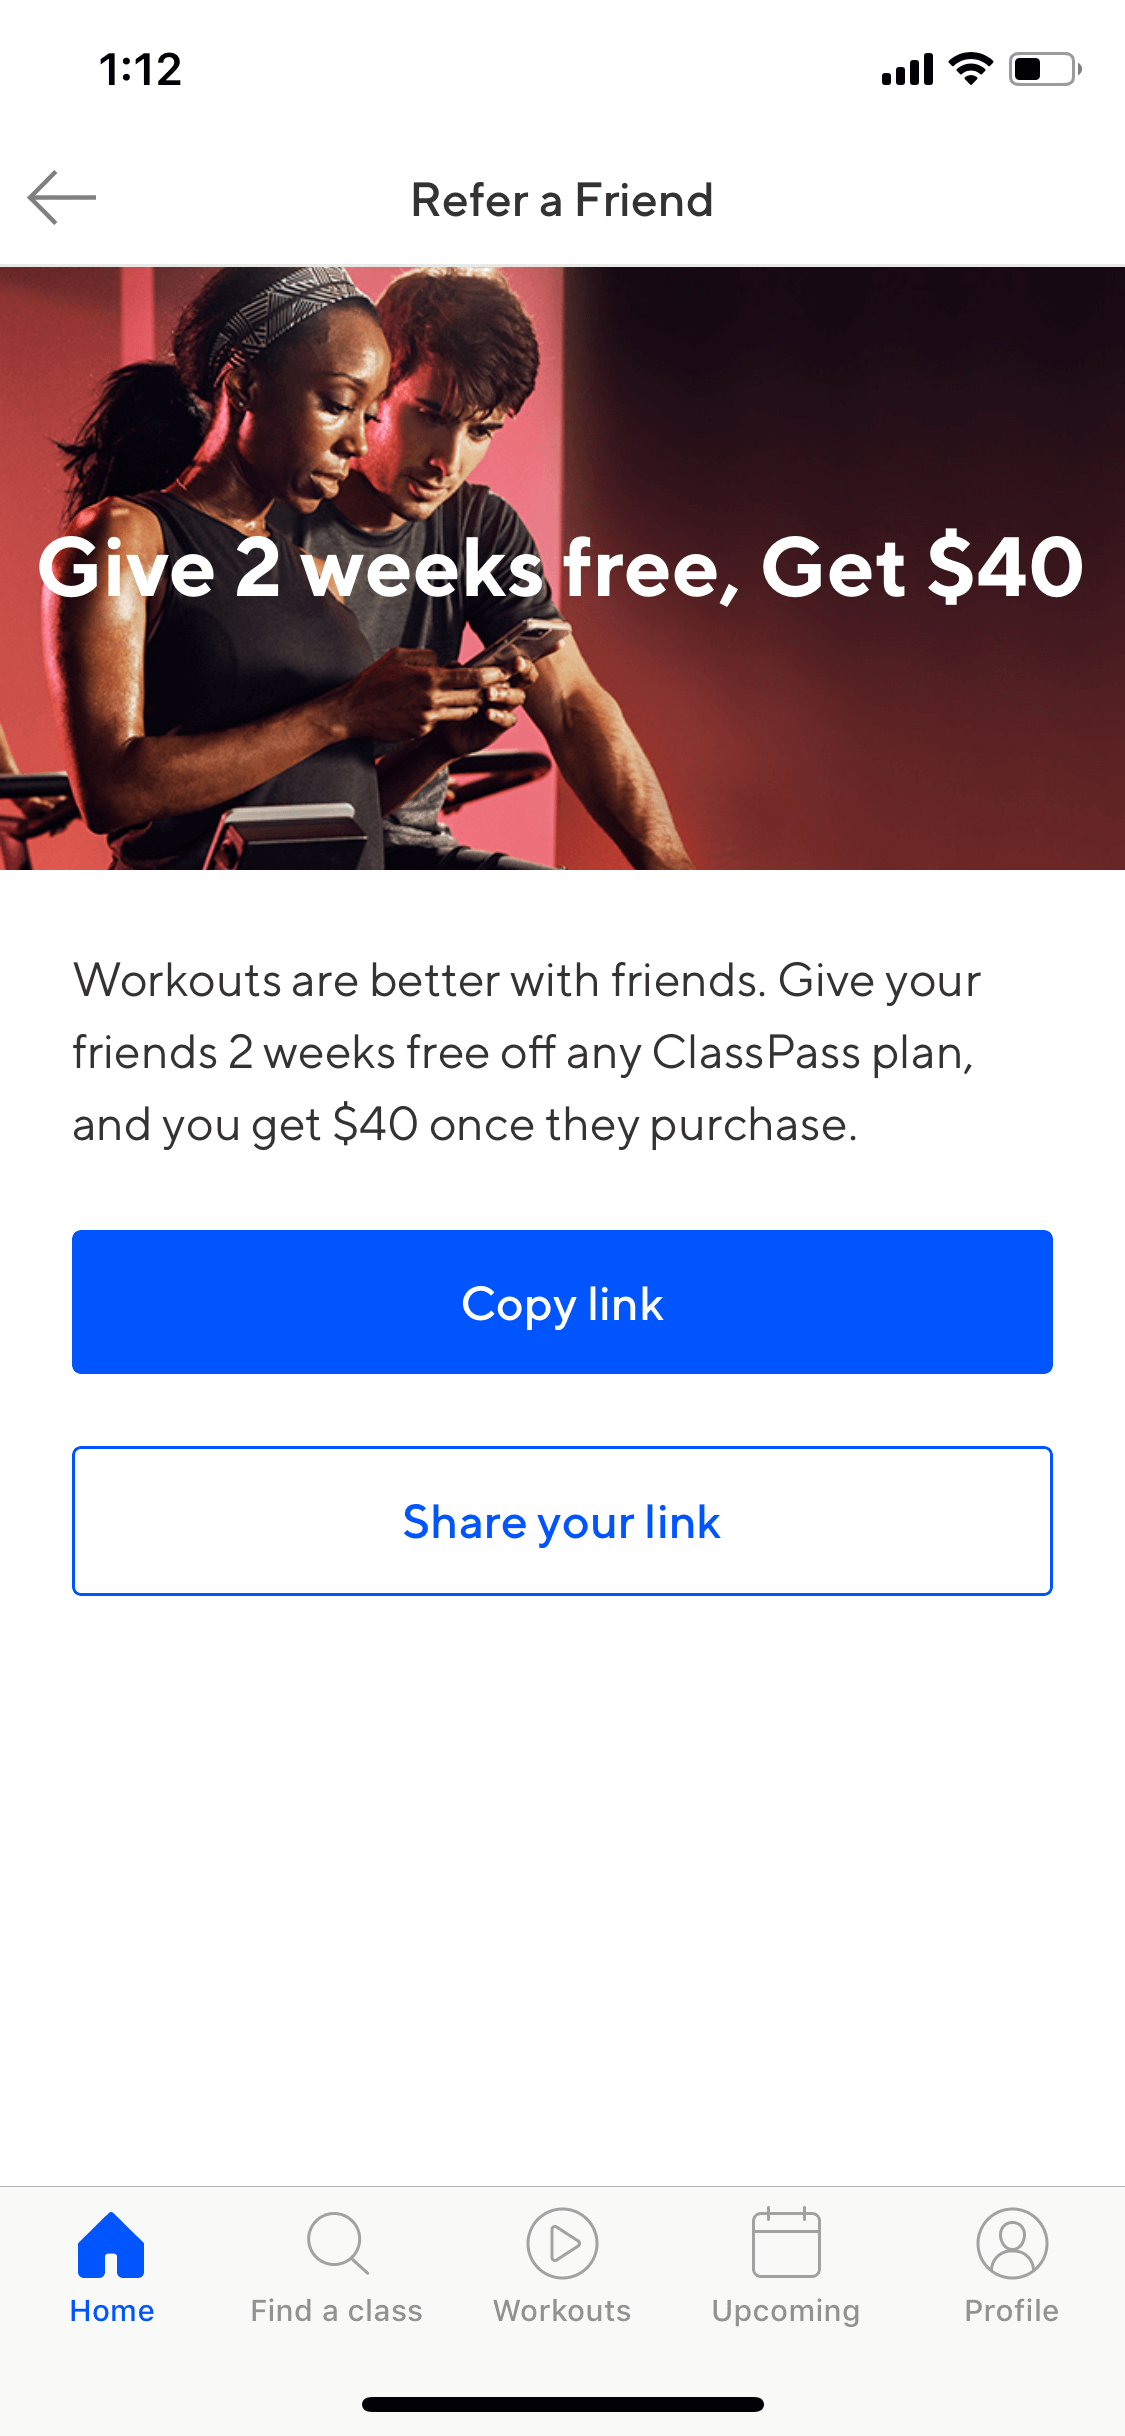Buttons: (59, 1207, 1069, 1389), (67, 1437, 1061, 1613), (2, 143, 113, 249)
